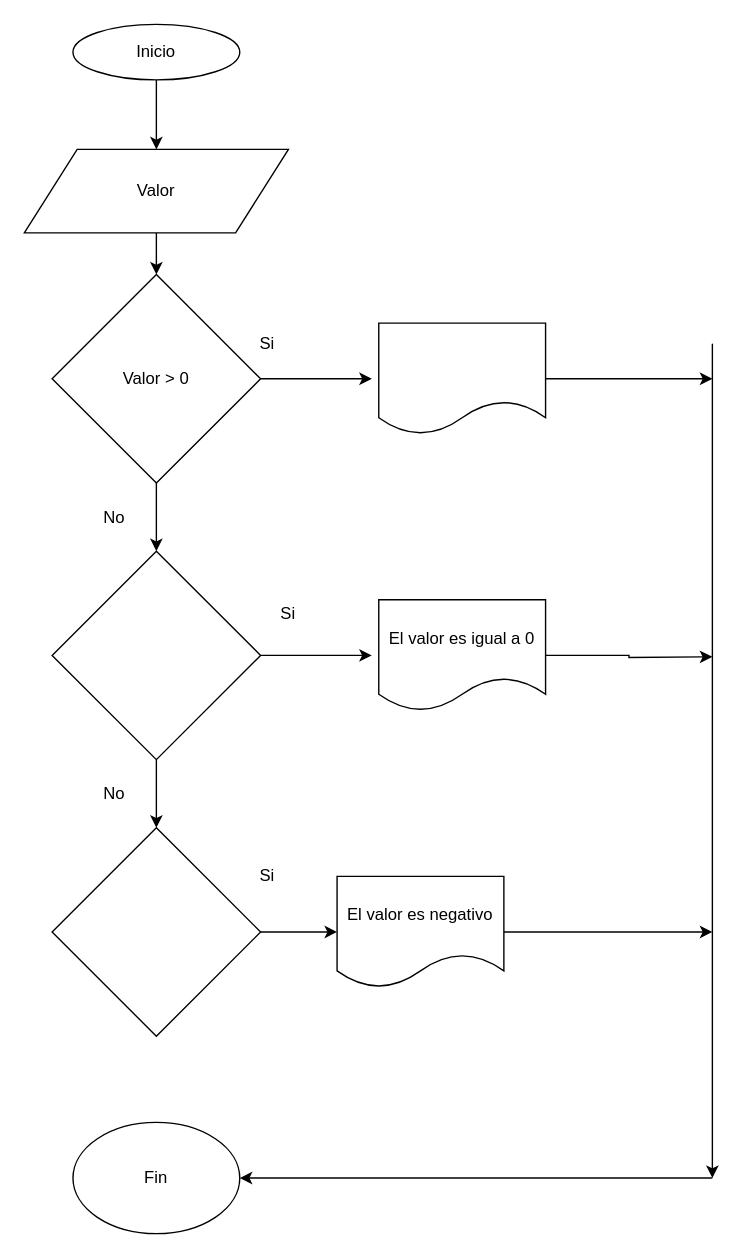
This 748x1258 diagram has some shape labels left out. The shapes that lost their labels are listed below. From the top down, each one's centre as x and y in pixels, then its label:
At (x=461, y=378): "El valor es positivo.".
At (x=156, y=655): "Valor = 0".
At (x=156, y=931): "Valor < 0".
